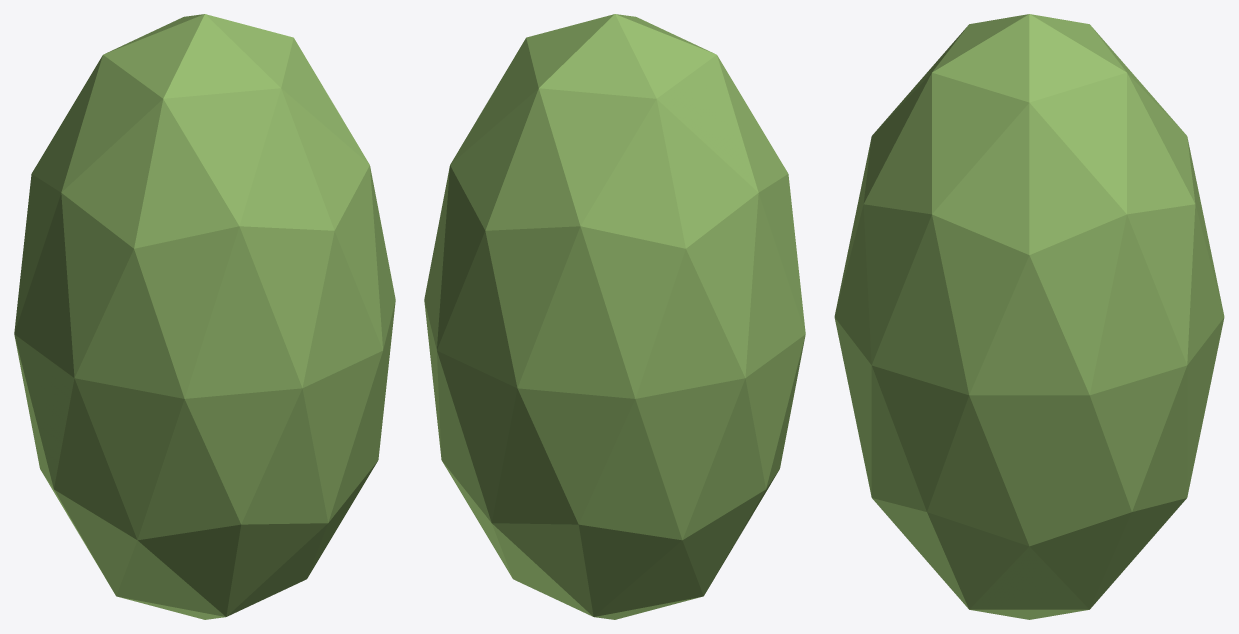
Rendered from bud_morphs.glb.
The picture shows the model from 3 angles, left to right: view 1: azimuth 30°, elevation 25°; view 2: azimuth 150°, elevation 25°; view 3: azimuth 270°, elevation 25°; orthographic projection.
Visible parts, largest first — view 1: AnimatedBud; view 2: AnimatedBud; view 3: AnimatedBud.
Part boxes in pixels (x1,y1,x2,y2): AnimatedBud: (14,14,395,619); AnimatedBud: (424,14,805,619); AnimatedBud: (834,14,1224,619).
Bounding box in the file's own units: 0.0666 × 0.12 × 0.07.
